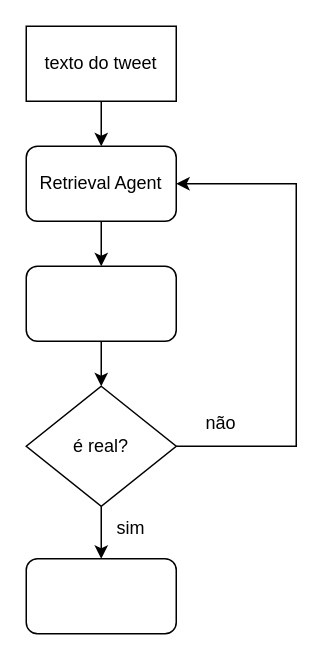
Some shapes in this 335 by 660 pixel diagram are drawn without their labels. Here are the shapes that lost their labels. From the top down, the centre of each, then its label:
(100,303): Fact-Checking Agent
(100,595): Response Generation Agent
